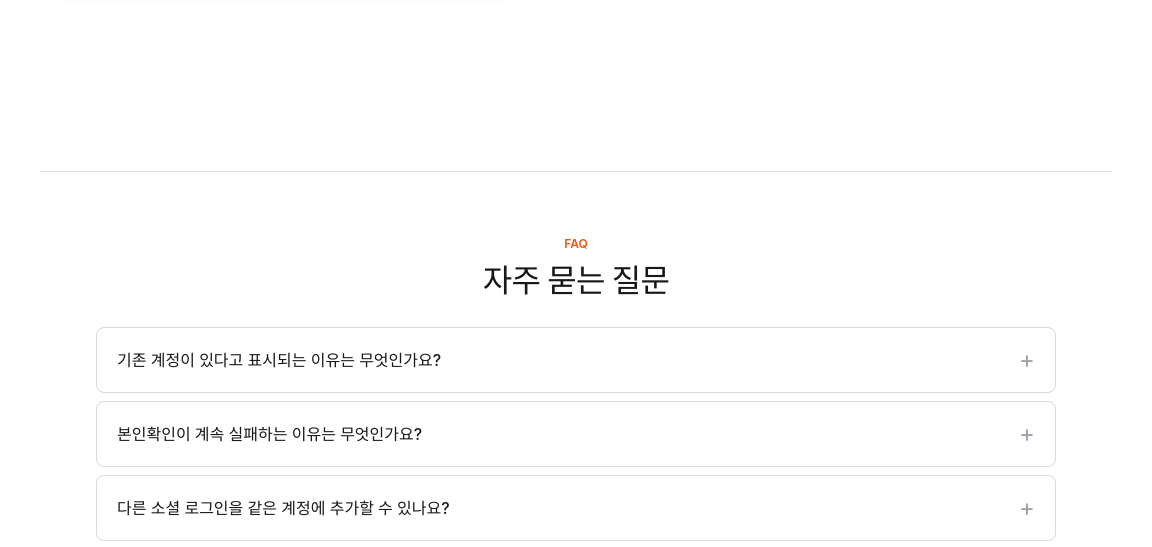
Scenario: App › keeps the FAQ accordion single-open
The image size is (1152, 547).
(page scrolled)
Step 1. Click the button "기존 계정이 있다고 표시되는 이유는 무엇인가요? +" → {"x": 279, "y": 360}, box [97,328,1055,392]
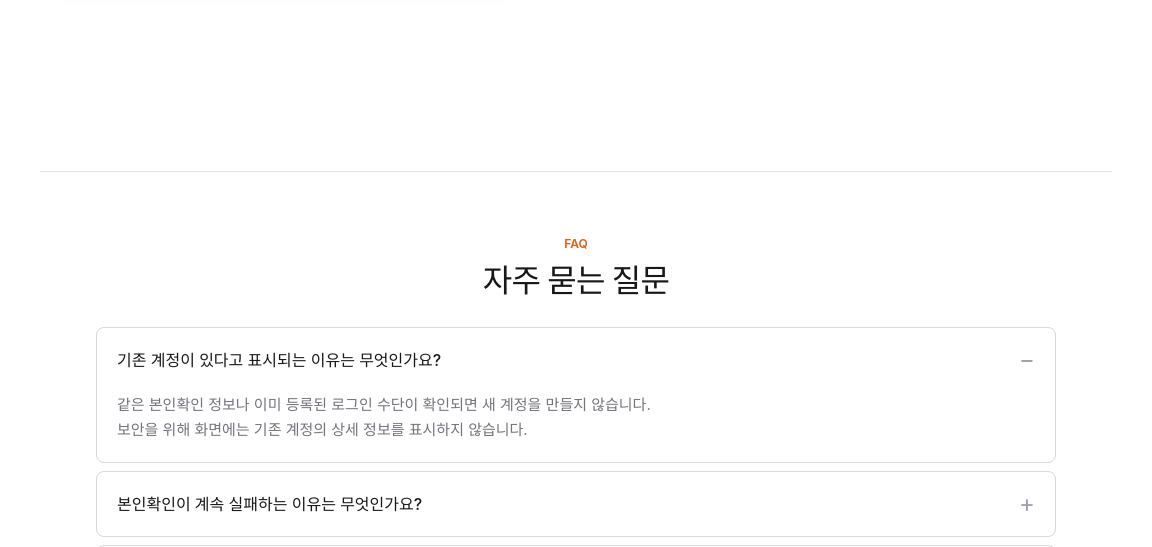
Expected: the text "같은 본인확인 정보나 이미 등록된 로그인 수단이 확인되면 새 계정을 만들지 않습니다." is shown, [117,395,651,414]
Step 2. Click the button "본인확인이 계속 실패하는 이유는 무엇인가요? +" → {"x": 270, "y": 504}, box [97,472,1055,536]
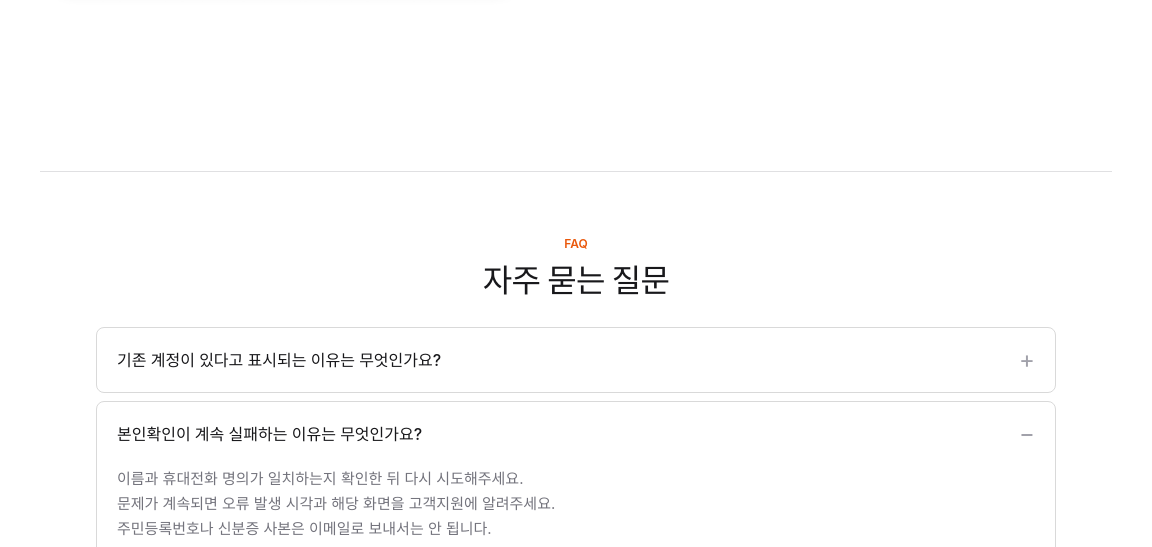
Expected: the text "같은 본인확인 정보나" is gone
Expected: the text "이름과 휴대전화 명의가 일치하는지 확인한 뒤 다시 시도해주세요." is shown, [117,469,524,488]
